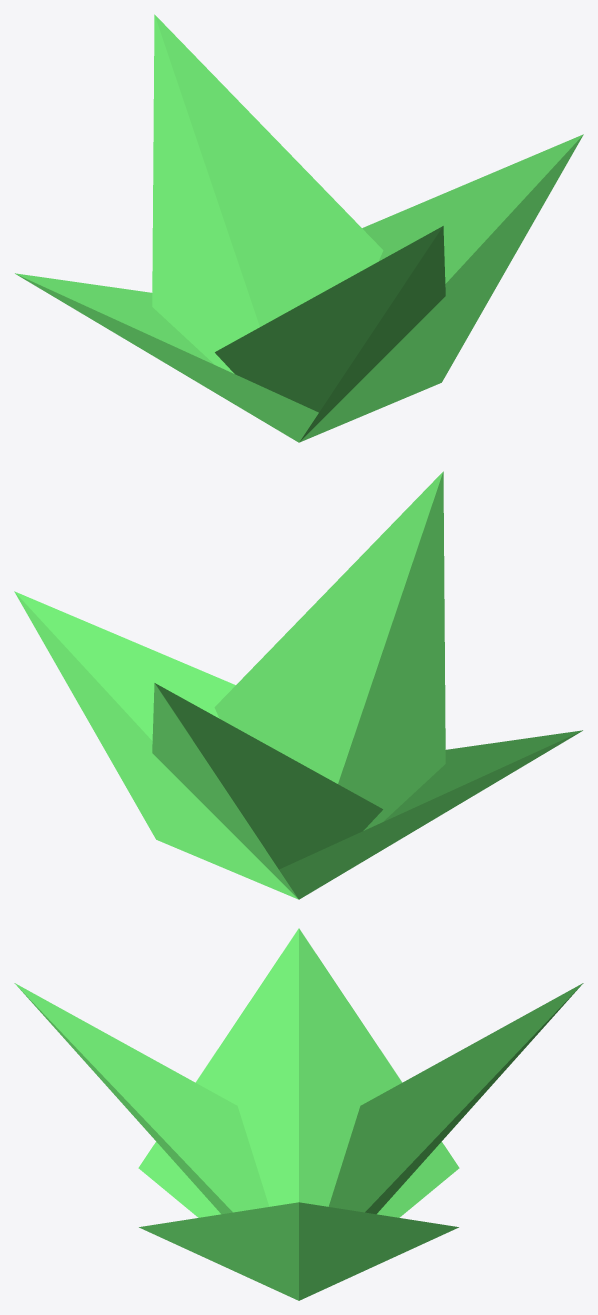
The model's file is n_plant_bushSmall.glb.
The picture shows the model from 3 angles, top to bottom: view 1: azimuth 30°, elevation 25°; view 2: azimuth 150°, elevation 25°; view 3: azimuth 270°, elevation 25°; orthographic projection.
Visible parts, largest first — view 1: plant_bushSmall; view 2: plant_bushSmall; view 3: plant_bushSmall.
Boxes of the visible parts, x1=… form: plant_bushSmall: x1=15, y1=14, x2=583, y2=442; plant_bushSmall: x1=14, y1=471, x2=582, y2=899; plant_bushSmall: x1=14, y1=928, x2=583, y2=1300.
Size of the model in its own units: 0.9238 by 0.5 by 0.8113.
